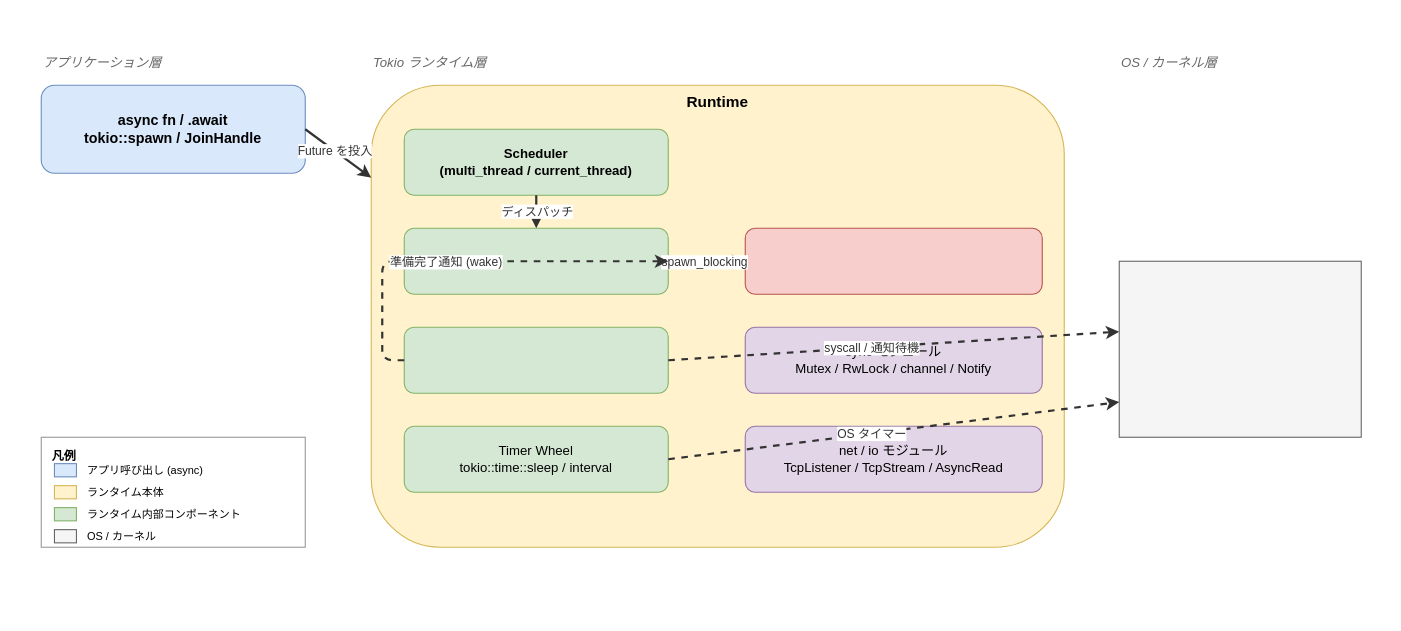
This 1401x631 diagram has some shape labels left out. The shapes that lost their labels are listed below. From the top down, each one's centre as x and y in pixels, then its label:
the point at 535,260: Worker Threads (タスクキュー / work-stealing)
the point at 893,260: Blocking Pool spawn_blocking 専用スレッド
the point at 535,359: Reactor (I/O Driver) epoll / kqueue / IOCP
the point at 1239,348: OS リソース ソケット / ファイル タイマー / 通知 fd
